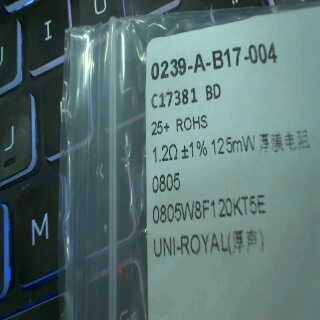1.2R: (148, 142, 182, 197)
